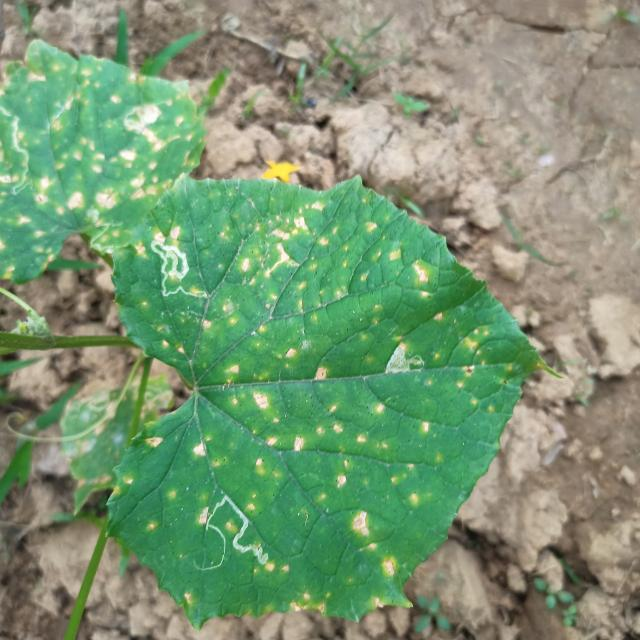disease_cucumber: (133, 204, 498, 595), (18, 67, 185, 217)
